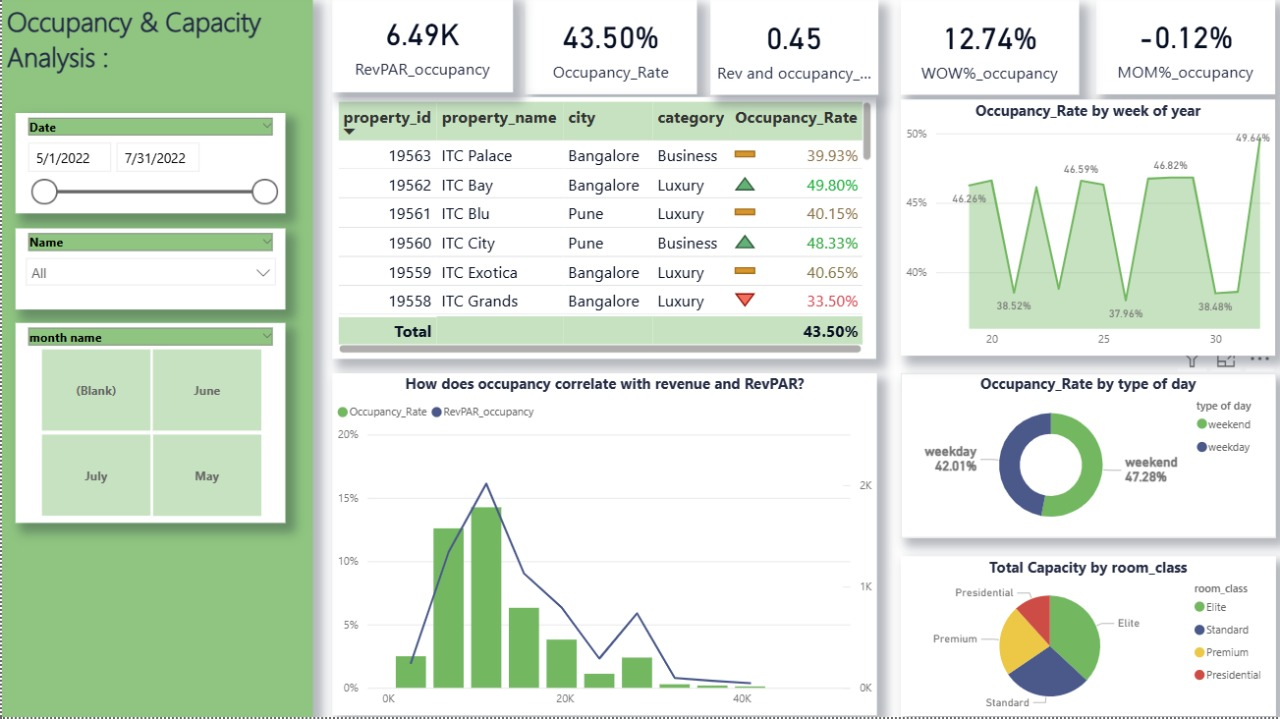

The dashboard page shown, as its layout file describes it:
{"tool":"powerbi","page":{"name":"Occupancy","canvas":[1280,720],"ordinal":1},"visuals":[{"type":"actionButton","box":[0,0,100,40],"z":0},{"type":"textbox","box":[0,2.4,309.4,717.8],"z":0,"group":"g1"},{"type":"group","id":"g1","title":"Group 1","box":[0,2.4,309.4,717.8],"z":1000},{"type":"card","fields":{"Values":["Table.occupancy_rate"]},"box":[520.9,3.7,171.2,95.4],"z":2000},{"type":"donutChart","fields":{"Category":["calendar.type of day"],"Y":["Table.occupancy_rate"]},"box":[894.6,377,373.3,163],"z":3000},{"type":"tableEx","fields":{"Values":["hotels.property_id","hotels.property_name","hotels.city","hotels.category","Table.occupancy_rate"]},"box":[328.9,101.5,541.7,260.5],"z":4000},{"type":"slicer","fields":{"Values":["calendar.Date"]},"box":[13.5,117.4,269,100.3],"z":5000},{"type":"slicer","fields":{"Values":["Holidays and Observances in India in 2022.Name"]},"box":[13.5,232.3,269,80.7],"z":6000},{"type":"card","fields":{"Values":["Table.MOM%_occupancy"]},"box":[1089.5,3.7,178.5,95.4],"z":7000},{"type":"card","fields":{"Values":["Table.WOW%_occupancy"]},"box":[895.1,4.9,177.3,94.2],"z":8000},{"type":"card","fields":{"Values":["Table.revenue and occupancy_rate correlation for property_id"]},"box":[705.6,4.9,167.5,94.2],"z":9000},{"type":"card","fields":{"Values":["Table.RevPAR_occupancy"]},"box":[328.9,0,179.8,96.6],"z":10000},{"type":"lineStackedColumnComboChart","title":"How does occupancy correlate with revenue and RevPAR?","fields":{"Category":["bookings.revenue_realized Group"],"Y":["Measures Table.Occupancy_Rate"],"Y2":["Measures Table.RevPAR_occupancy"]},"box":[328.5,377,542.5,340.9],"z":11000},{"type":"slicer","fields":{"Values":["calendar.month name"]},"box":[13.5,326.5,269,199.3],"z":12000},{"type":"pieChart","fields":{"Category":["rooms.room_class"],"Y":["Sum(occupancy.capacity)"]},"box":[894.6,558.6,373.3,159.3],"z":13000},{"type":"areaChart","fields":{"Category":["calendar.week of year"],"Y":["Measures Table.Occupancy_Rate"]},"box":[895.1,103.9,373,255.6],"z":14000}]}

Visuals, with their boxes in screenshot pixels (x1, y1, x2, y2), scaled from the page's 1280x720 canvas onto the 1280x719 screenshot:
actionButton: Rect(0, 0, 100, 40)
textbox: Rect(0, 2, 309, 718)
"Group 1" group: Rect(0, 2, 309, 718)
card - Table.occupancy_rate: Rect(521, 4, 692, 99)
donutChart - calendar.type of day x Table.occupancy_rate: Rect(895, 376, 1268, 539)
tableEx - hotels.property_id x hotels.property_name: Rect(329, 101, 871, 361)
slicer - calendar.Date: Rect(14, 117, 282, 217)
slicer - Holidays and Observances in India in 2022.Name: Rect(14, 232, 282, 313)
card - Table.MOM%_occupancy: Rect(1090, 4, 1268, 99)
card - Table.WOW%_occupancy: Rect(895, 5, 1072, 99)
card - Table.revenue and occupancy_rate correlation for property_id: Rect(706, 5, 873, 99)
card - Table.RevPAR_occupancy: Rect(329, 0, 509, 96)
"How does occupancy correlate with revenue and RevPAR?" lineStackedColumnComboChart: Rect(328, 376, 871, 717)
slicer - calendar.month name: Rect(14, 326, 282, 525)
pieChart - rooms.room_class x Sum(occupancy.capacity): Rect(895, 558, 1268, 717)
areaChart - calendar.week of year x Measures Table.Occupancy_Rate: Rect(895, 104, 1268, 359)
